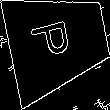P_E: (33, 19, 82, 66)
